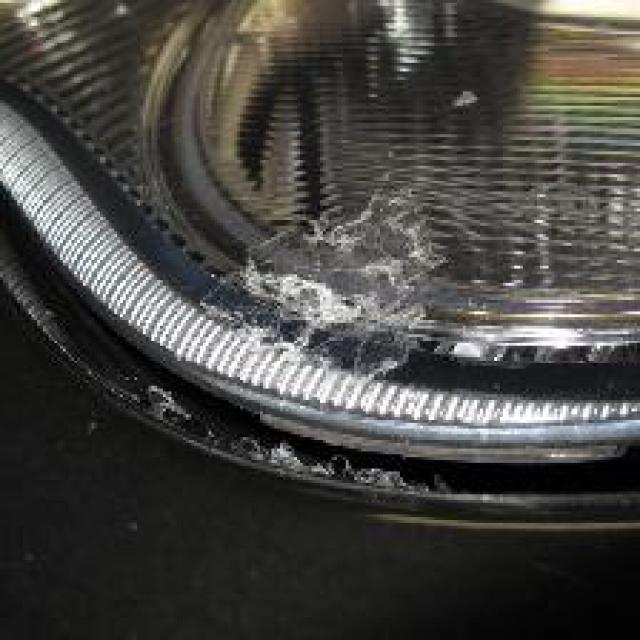head_lamp_minor: (160, 0, 597, 377)
